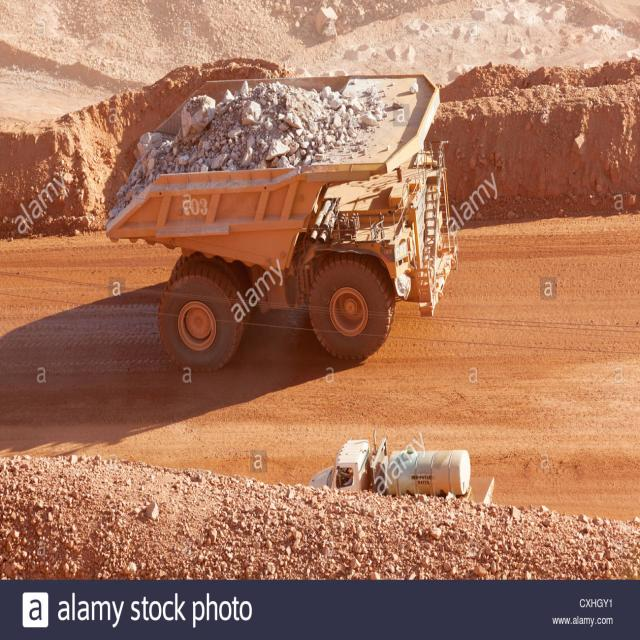dump_truck: (122, 61, 462, 394)
